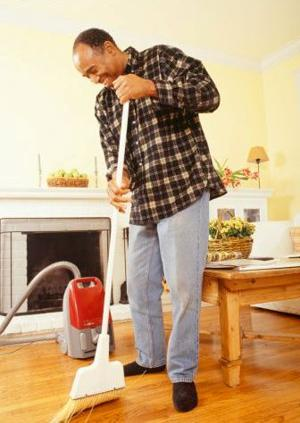person: (72, 29, 223, 417)
